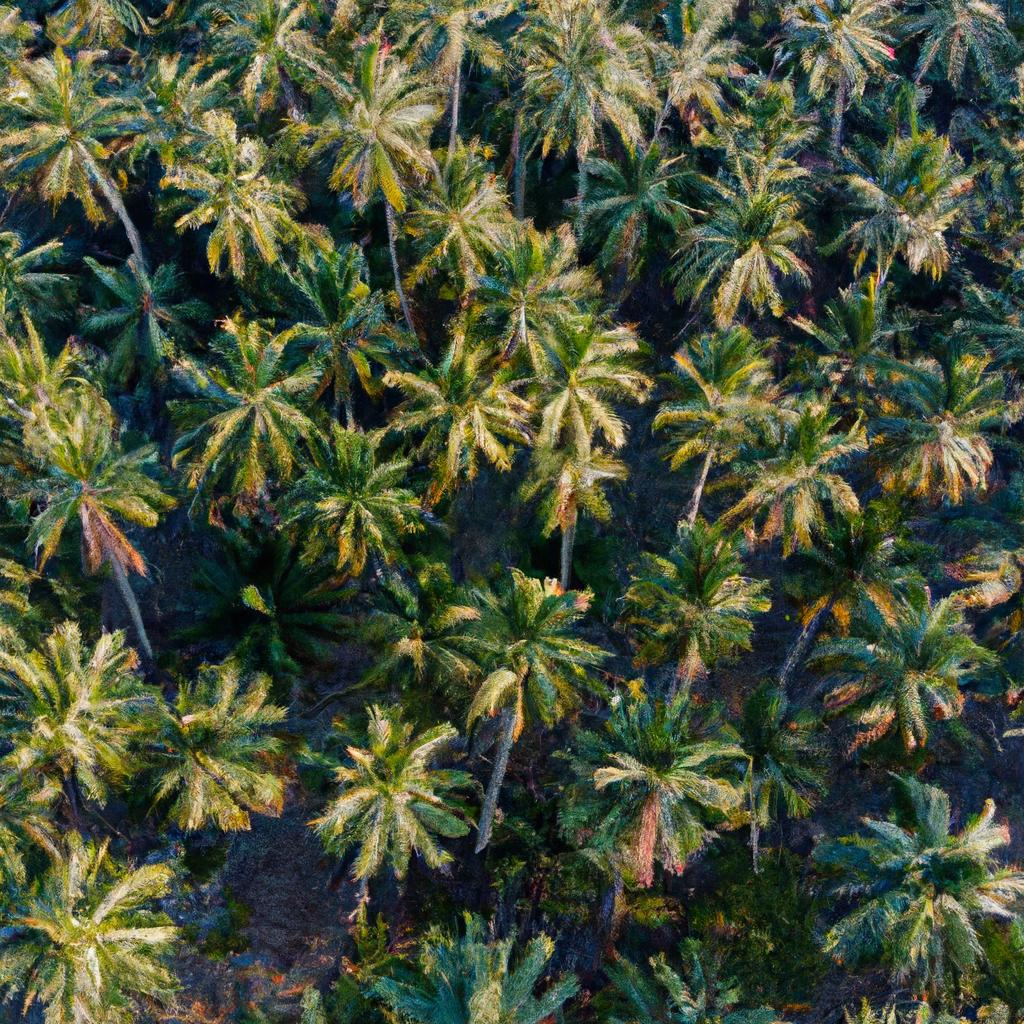coconut_tree: (797, 768, 1023, 979), (811, 551, 1005, 770), (0, 350, 179, 580), (157, 297, 338, 508), (568, 696, 749, 904), (0, 831, 203, 1016), (432, 559, 616, 756), (306, 705, 485, 896), (136, 654, 306, 832), (0, 26, 155, 218), (857, 340, 1017, 526), (0, 615, 160, 801), (598, 515, 768, 685), (830, 129, 992, 293), (376, 326, 535, 493), (298, 410, 443, 589), (290, 59, 441, 226), (143, 123, 301, 278), (508, 7, 654, 162), (659, 315, 793, 477), (525, 289, 646, 461), (681, 169, 811, 312)
